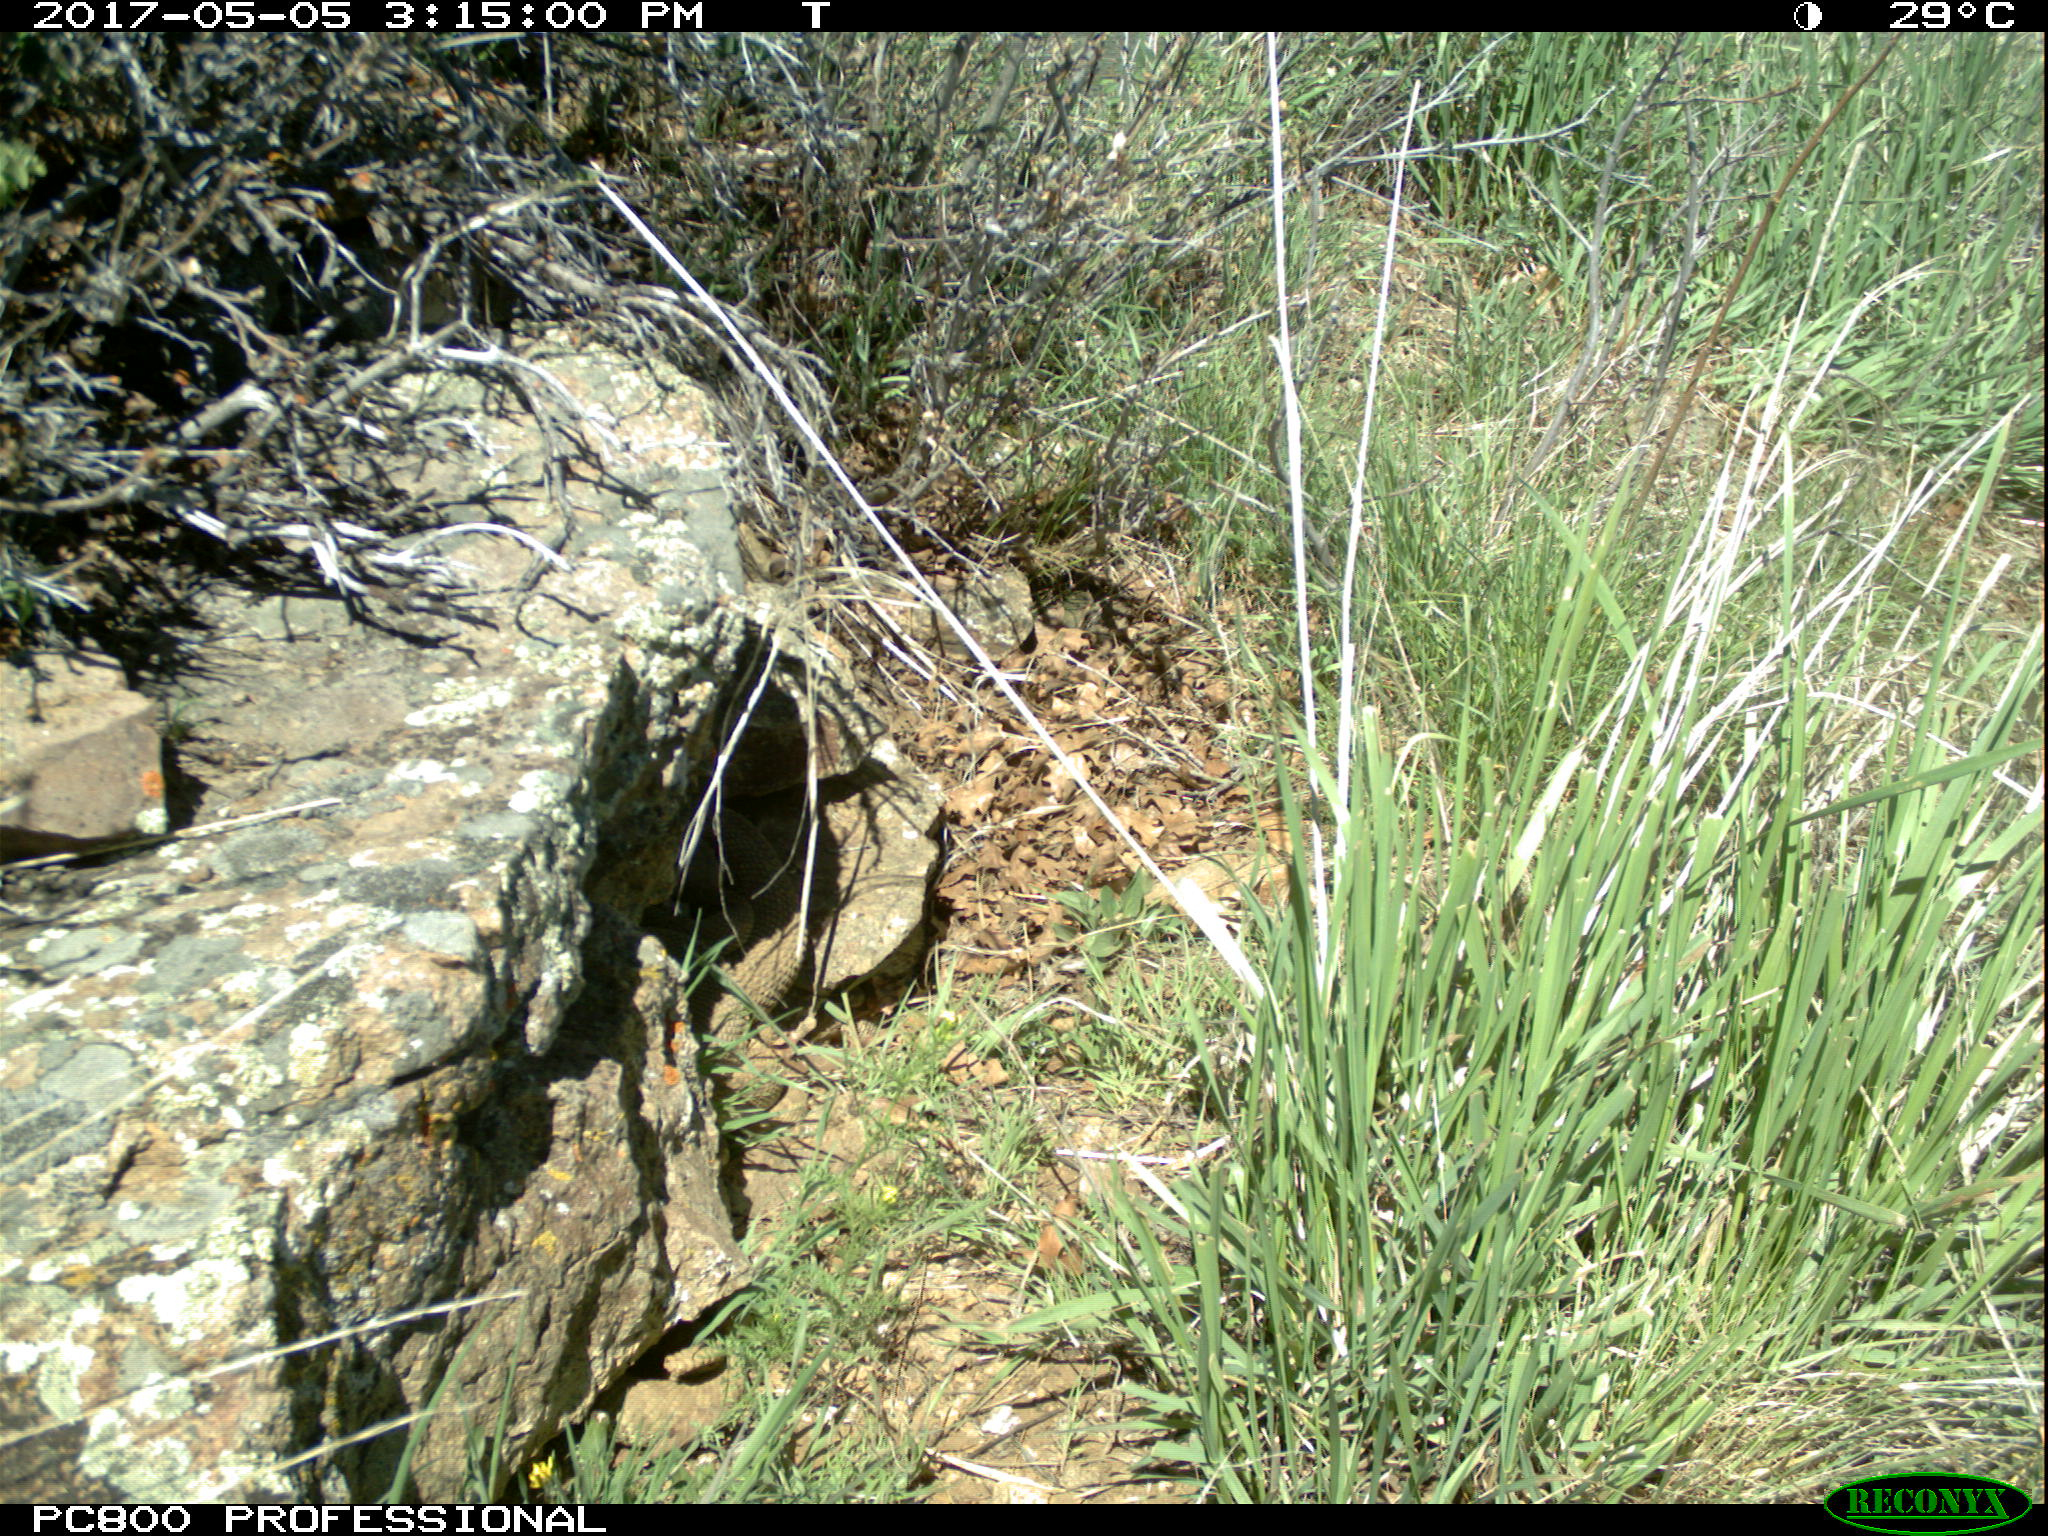snake: (608, 1325, 769, 1447), (701, 865, 814, 1008)
